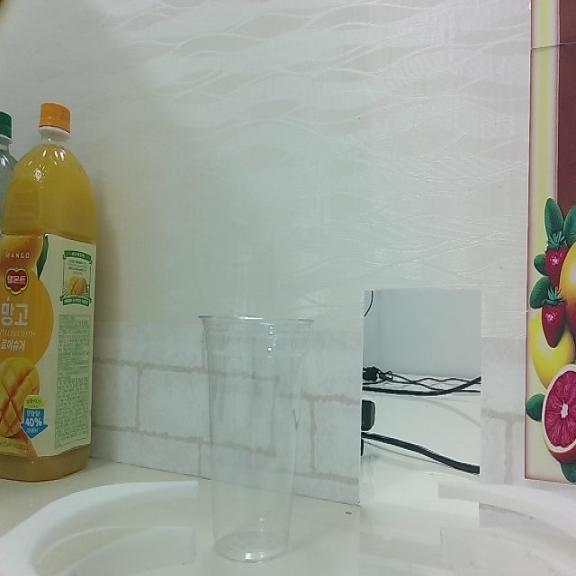Plastik: (204, 313, 310, 565)
